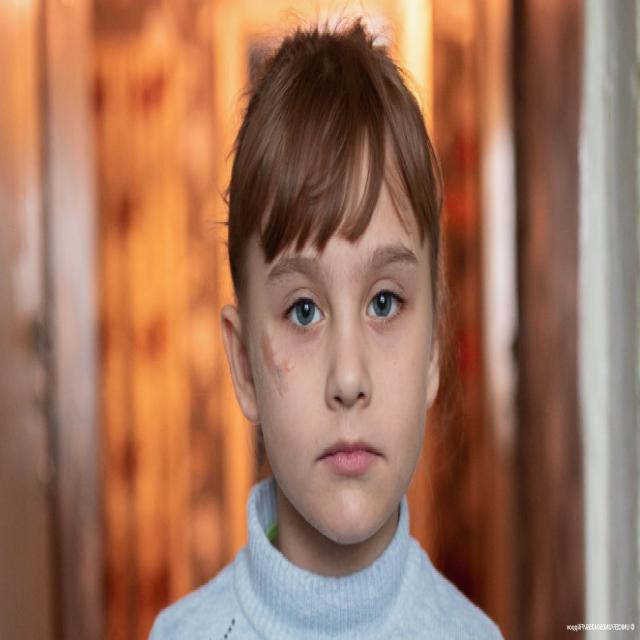child: (153, 16, 501, 640)
